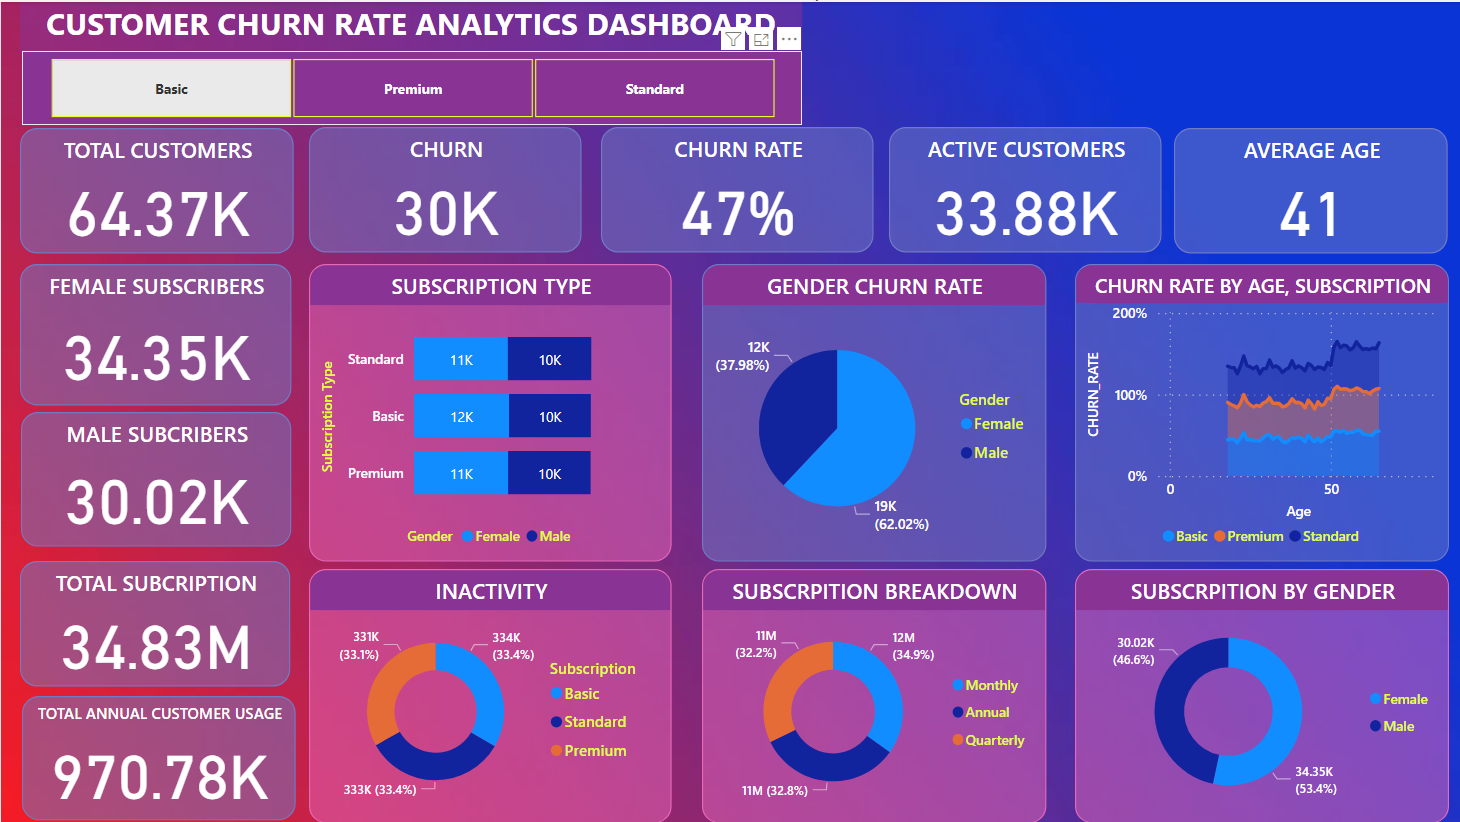

Layout of this report page (visuals, bound fields, positions):
{"tool":"powerbi","page":{"name":"Page 1","canvas":[1280,720],"ordinal":0},"visuals":[{"type":"card","title":"AVERAGE AGE","fields":{"Values":["customer_churn_dataset-testing-master.AVG_AGE"]},"box":[1028.7,110.5,240.3,109.6],"z":0},{"type":"card","title":"CHURN","fields":{"Values":["Sum(customer_churn_dataset-testing-master.Churn)"]},"box":[270.1,109.6,239.4,110.5],"z":1000},{"type":"card","title":"CHURN RATE","fields":{"Values":["customer_churn_dataset-testing-master.CHURN_RATE"]},"box":[526.2,109.6,239.4,110.5],"z":2000},{"type":"card","title":"TOTAL CUSTOMERS","fields":{"Values":["CountNonNull(customer_churn_dataset-testing-master.CustomerID)"]},"box":[16.7,110.5,240.3,109.6],"z":3000},{"type":"card","title":"ACTIVE CUSTOMERS","fields":{"Values":["customer_churn_dataset-testing-master.ACTIVE_CUSTOMERS"]},"box":[778.8,109.6,239.4,110.5],"z":4000},{"type":"pieChart","title":"GENDER CHURN RATE","fields":{"Category":["customer_churn_dataset-testing-master.Gender"],"Y":["Sum(customer_churn_dataset-testing-master.Churn)"]},"box":[614.7,229.5,301.5,260.7],"z":5000},{"type":"barChart","title":"SUBSCRIPTION TYPE ","fields":{"Category":["customer_churn_dataset-testing-master.Subscription Type"],"Series":["customer_churn_dataset-testing-master.Gender"],"Y":["CountNonNull(customer_churn_dataset-testing-master.CustomerID)"]},"box":[270.4,229.5,318.1,260.7],"z":6000},{"type":"donutChart","title":"INACTIVITY","fields":{"Category":["customer_churn_dataset-testing-master.Subscription Type"],"Y":["Sum(customer_churn_dataset-testing-master.Last Interaction)"]},"box":[270.4,497,318.1,222.7],"z":7000},{"type":"card","title":"TOTAL SUBCRIPTION","fields":{"Values":["Sum(customer_churn_dataset-testing-master.Total Spend)"]},"box":[16.5,490.2,237.3,109.9],"z":8000},{"type":"card","title":"TOTAL ANNUAL CUSTOMER USAGE","fields":{"Values":["Sum(customer_churn_dataset-testing-master.Usage Frequency)"]},"box":[18.5,608.9,240.2,108.9],"z":9000},{"type":"donutChart","title":"SUBSCRPITION BREAKDOWN","fields":{"Category":["customer_churn_dataset-testing-master.Contract Length"],"Y":["Sum(customer_churn_dataset-testing-master.Total Spend)"]},"box":[614.7,497,301.5,222.7],"z":10000},{"type":"textbox","title":"CUSTOMER CHURN RATE ANALYTICS DASHBOARD","box":[16.7,0,685.8,43.8],"z":11000},{"type":"slicer","fields":{"Values":["customer_churn_dataset-testing-master.Subscription Type"]},"box":[18.5,42.8,683.8,65.2],"z":12000},{"type":"donutChart","title":"SUBSCRPITION BY GENDER","fields":{"Category":["customer_churn_dataset-testing-master.Gender"],"Y":["CountNonNull(customer_churn_dataset-testing-master.Subscription Type)"]},"box":[941.5,497,327.8,222.7],"z":13000},{"type":"stackedAreaChart","title":"CHURN RATE BY AGE, SUBSCRIPTION","fields":{"Category":["customer_churn_dataset-testing-master.Age"],"Y":["customer_churn_dataset-testing-master.CHURN_RATE"],"Series":["customer_churn_dataset-testing-master.Subscription Type"]},"box":[941.5,229.5,327.8,260.7],"z":14000},{"type":"card","title":"FEMALE SUBSCRIBERS","fields":{"Values":["CountNonNull(customer_churn_dataset-testing-master.CustomerID)"]},"box":[16.5,229.5,238.3,123.5],"z":15000},{"type":"card","title":"MALE SUBCRIBERS","fields":{"Values":["CountNonNull(customer_churn_dataset-testing-master.CustomerID)"]},"box":[17.5,359.9,237.3,117.7],"z":16000}]}

Visuals, with their boxes in screenshot pixels (x1, y1, x2, y2), scaled from the page's 1280x720 canvas onto the 1460x822 screenshot:
"AVERAGE AGE" card: <box>1173,126,1447,251</box>
"CHURN" card: <box>308,125,581,251</box>
"CHURN RATE" card: <box>600,125,873,251</box>
"TOTAL CUSTOMERS" card: <box>19,126,293,251</box>
"ACTIVE CUSTOMERS" card: <box>888,125,1161,251</box>
"GENDER CHURN RATE" pieChart: <box>701,262,1045,560</box>
"SUBSCRIPTION TYPE " barChart: <box>308,262,671,560</box>
"INACTIVITY" donutChart: <box>308,567,671,821</box>
"TOTAL SUBCRIPTION" card: <box>19,560,289,685</box>
"TOTAL ANNUAL CUSTOMER USAGE" card: <box>21,695,295,819</box>
"SUBSCRPITION BREAKDOWN" donutChart: <box>701,567,1045,821</box>
"CUSTOMER CHURN RATE ANALYTICS DASHBOARD" textbox: <box>19,0,801,50</box>
slicer - customer_churn_dataset-testing-master.Subscription Type: <box>21,49,801,123</box>
"SUBSCRPITION BY GENDER" donutChart: <box>1074,567,1448,821</box>
"CHURN RATE BY AGE, SUBSCRIPTION" stackedAreaChart: <box>1074,262,1448,560</box>
"FEMALE SUBSCRIBERS" card: <box>19,262,291,403</box>
"MALE SUBCRIBERS" card: <box>20,411,291,545</box>
